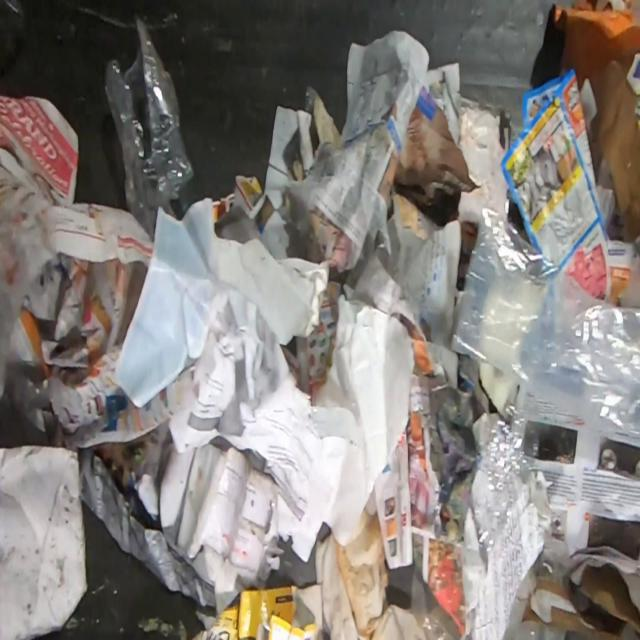cardboard: (158, 442, 278, 617), (523, 546, 640, 640), (588, 57, 640, 243), (191, 582, 325, 639)
rigid_plastic: (103, 16, 195, 243)
soft_plastic: (449, 195, 640, 442), (410, 400, 575, 640)
